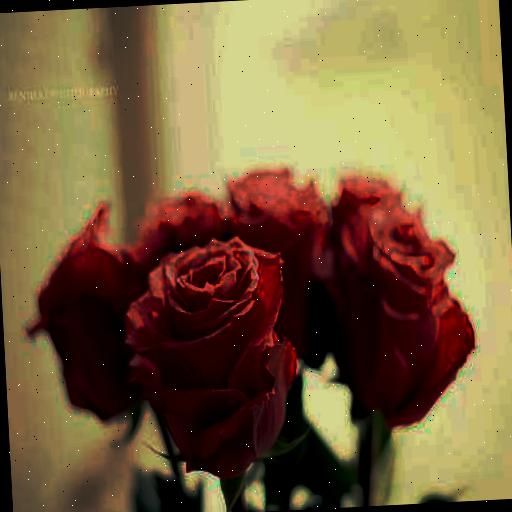rose: (123, 239, 299, 474)
